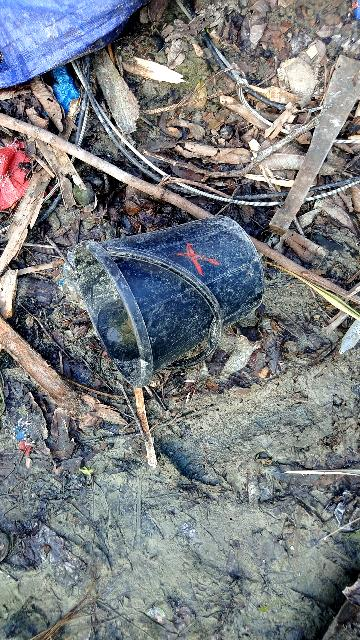hardplastic: (81, 223, 265, 367)
